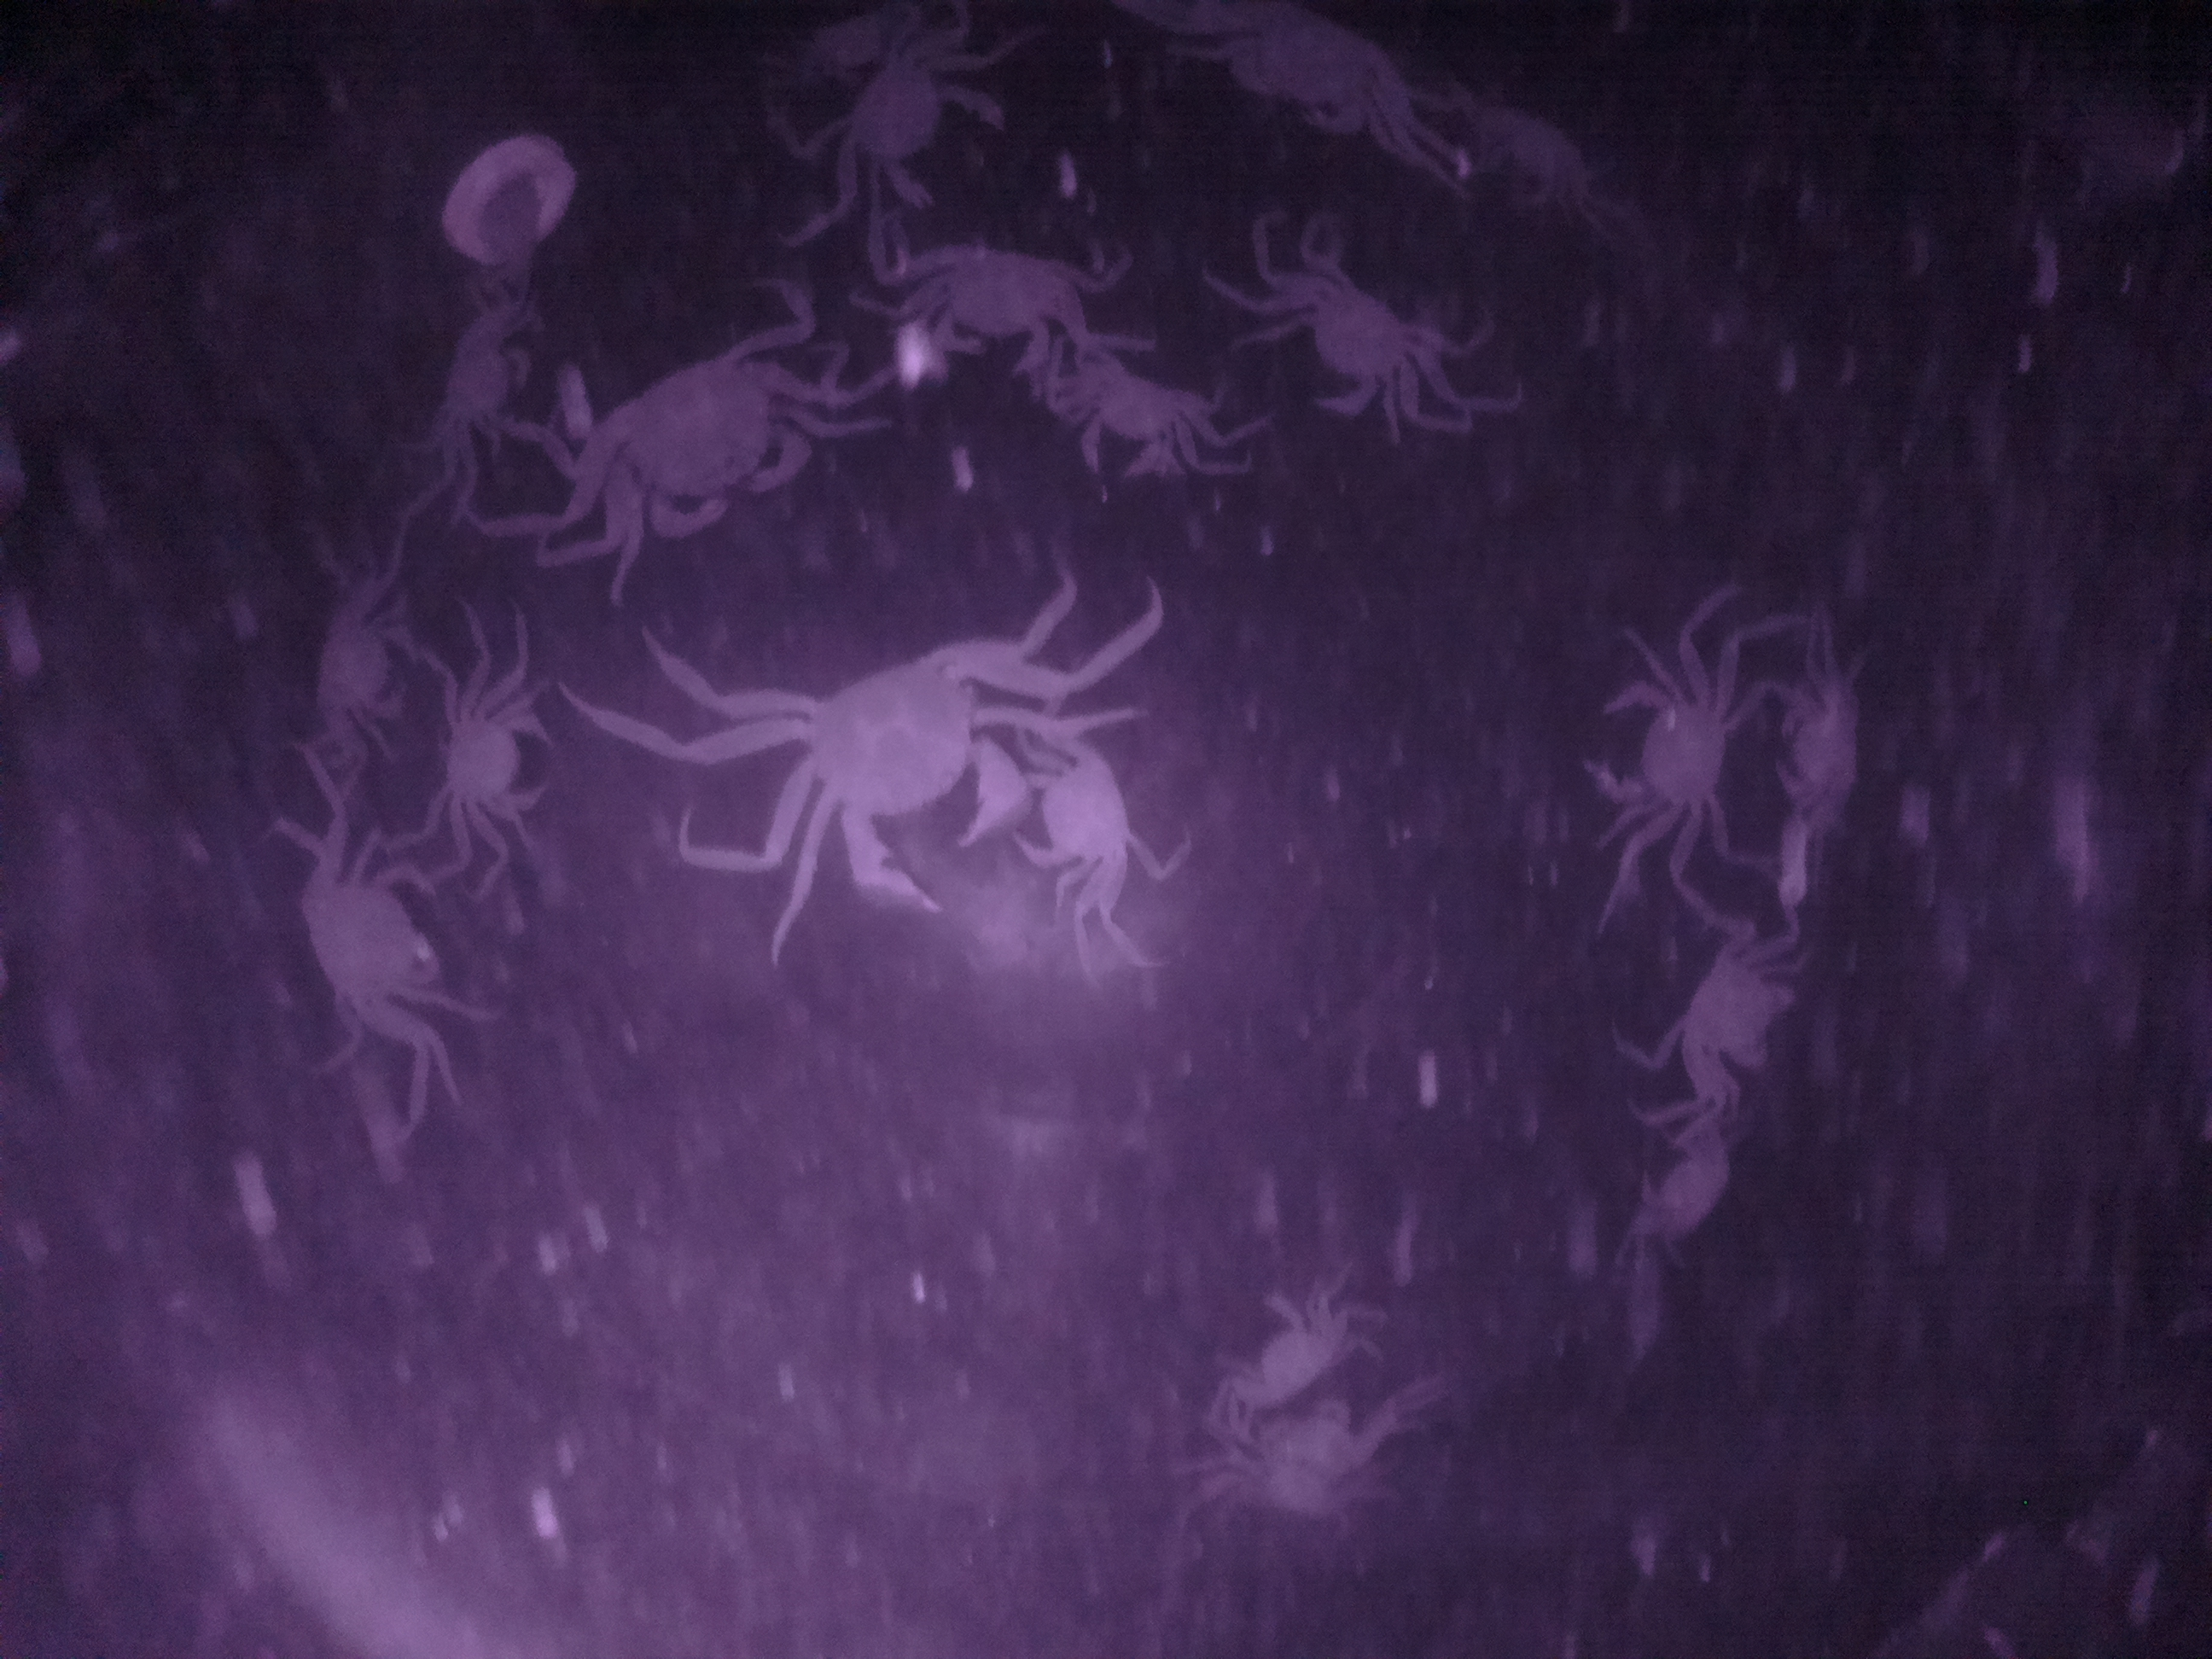Crab: (765, 629, 1040, 925), (578, 347, 824, 559), (289, 847, 470, 1061), (1573, 664, 1754, 836), (1642, 932, 1818, 1105), (1010, 725, 1183, 894), (1254, 277, 1430, 430), (883, 232, 1078, 362), (423, 683, 564, 836), (298, 591, 428, 746), (1038, 362, 1197, 488)
